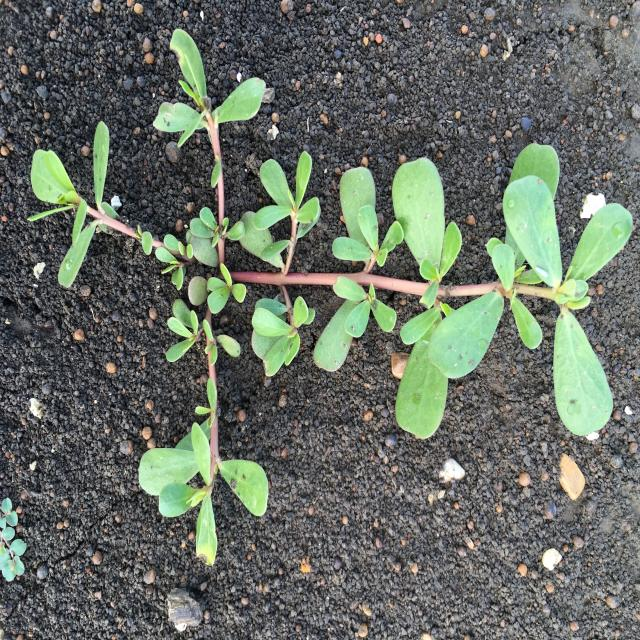Purslane: (27, 29, 633, 566)
